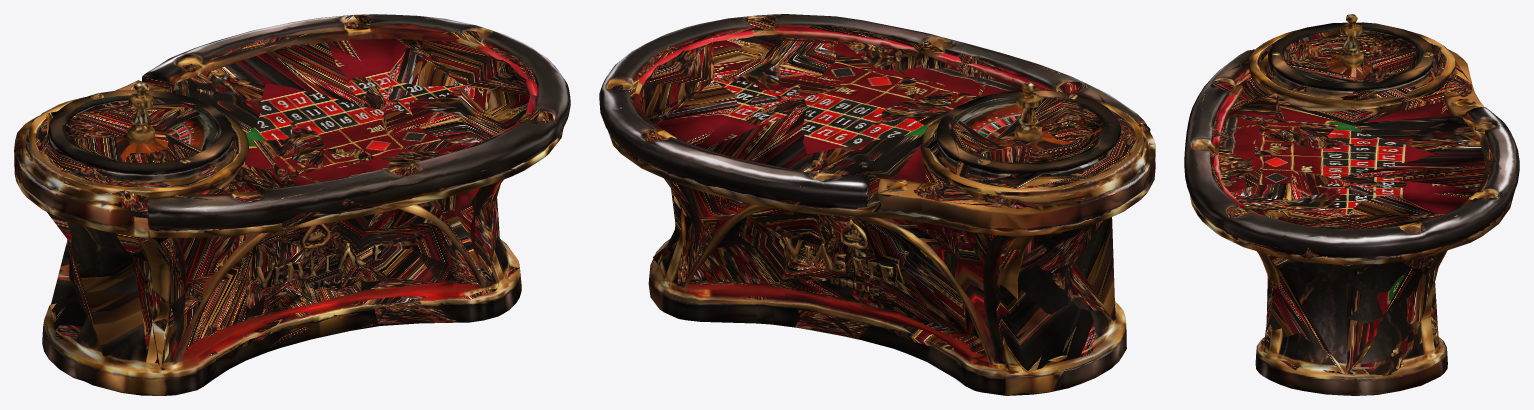
Rendered from tripo_table_roulette.glb.
The picture shows the model from 3 angles, left to right: view 1: azimuth 30°, elevation 25°; view 2: azimuth 150°, elevation 25°; view 3: azimuth 270°, elevation 25°; orthographic projection. The views are drawn at different scales.
Parts seen in each view (by area): view 1: tripo_cabinet_near, tripo_cabinet_far; view 2: tripo_cabinet_near, tripo_cabinet_far; view 3: tripo_cabinet_near, tripo_cabinet_far.
Part boxes in pixels (<box>): tripo_cabinet_near: <box>14,14,570,395</box>; tripo_cabinet_far: <box>20,15,553,378</box>; tripo_cabinet_near: <box>599,14,1155,395</box>; tripo_cabinet_far: <box>610,18,1148,372</box>; tripo_cabinet_near: <box>1184,14,1519,395</box>; tripo_cabinet_far: <box>1186,30,1511,376</box>.
Bounding box in the file's own units: 2.9 × 1.45 × 1.92.
1 material, 1 textured.
